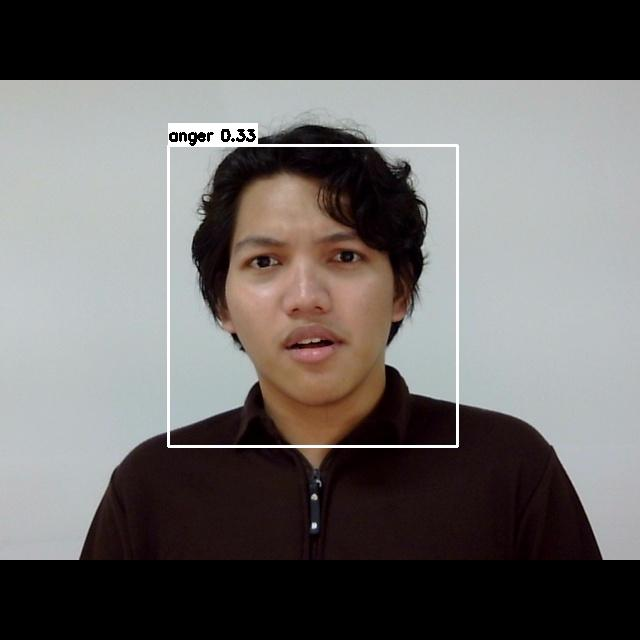Surprised: (219, 209, 413, 409)
